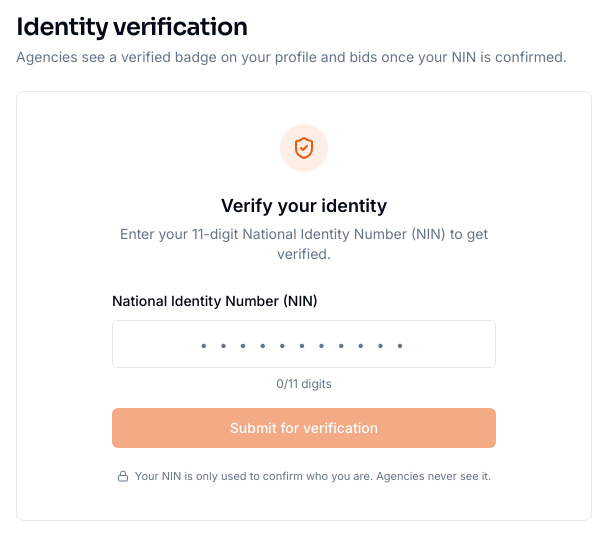
Test: Identity › shows the submission form when there is no record, and disables submit until 11 digits are entered
The width and height of the screenshot is (609, 538).
Later steps or results of the test are not shown.
Expected: the button "Submit for verification" is disabled, [112, 408, 496, 448]
Type "1234567890" into the field labelled "National Identity Number (NIN)". click: point(304, 344)
box: [112, 320, 496, 368]
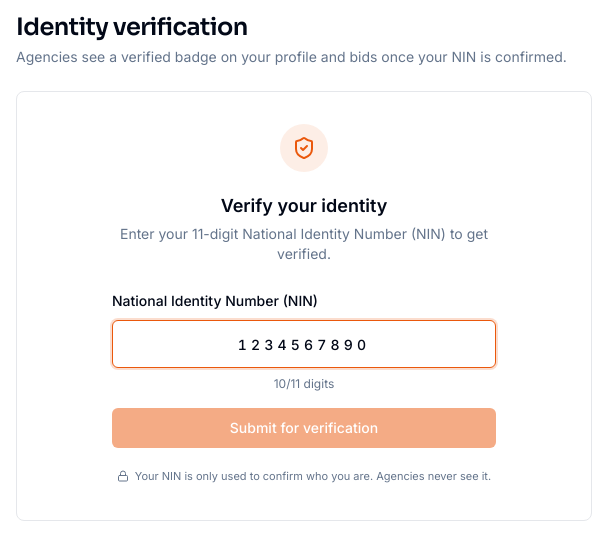
Expected: the button "Submit for verification" is disabled, [112, 408, 496, 448]
Type "1" into the field labelled "National Identity Number (NIN)". click: point(304, 344)
box: [112, 320, 496, 368]
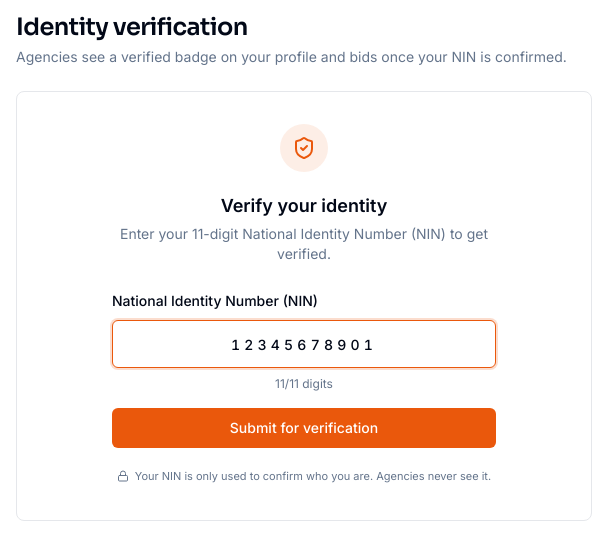
Result: the button "Submit for verification" is enabled at [112, 408, 496, 448]
